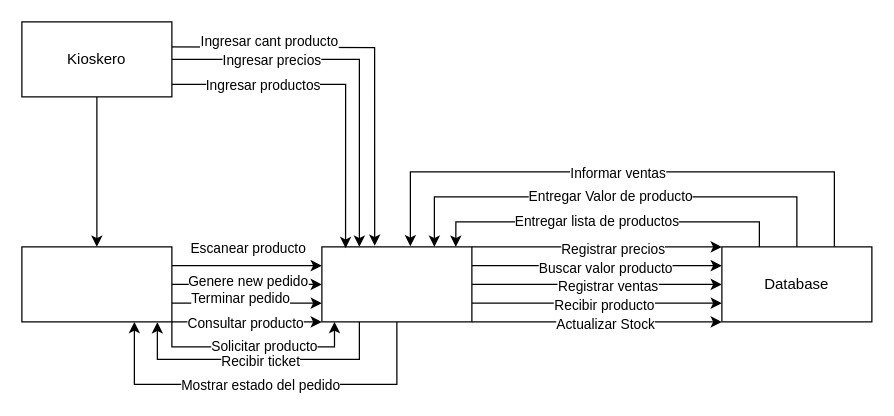
This 894x416 diagram has some shape labels left out. The shapes that lost their labels are listed below. From the top down, each one's box as (x1, y1, x2, y2) in pixels, then its label:
(21, 246, 172, 322): empleado
(321, 246, 472, 322): Sistema gestion de kiosco
